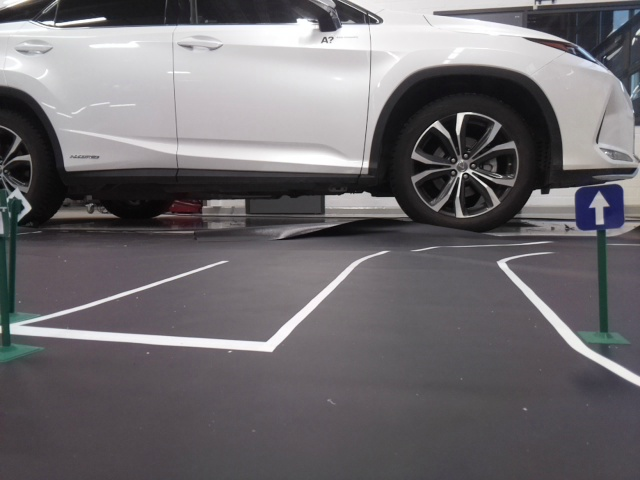OneWay: (575, 189, 622, 227)
